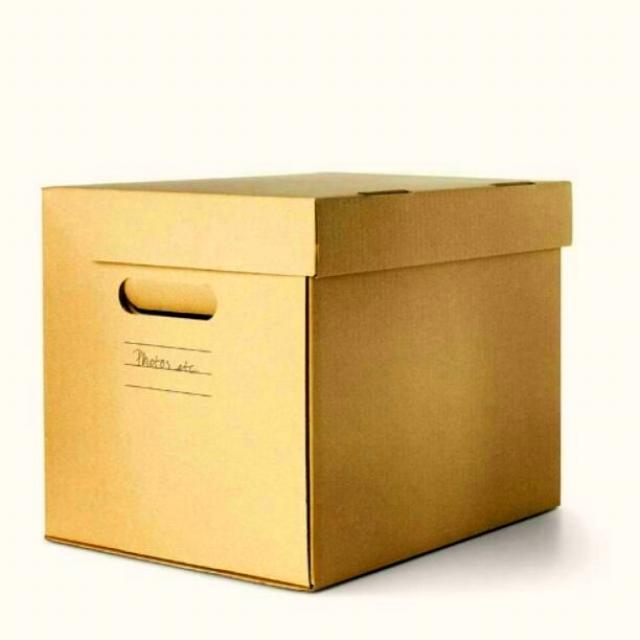box: (25, 131, 618, 614)
